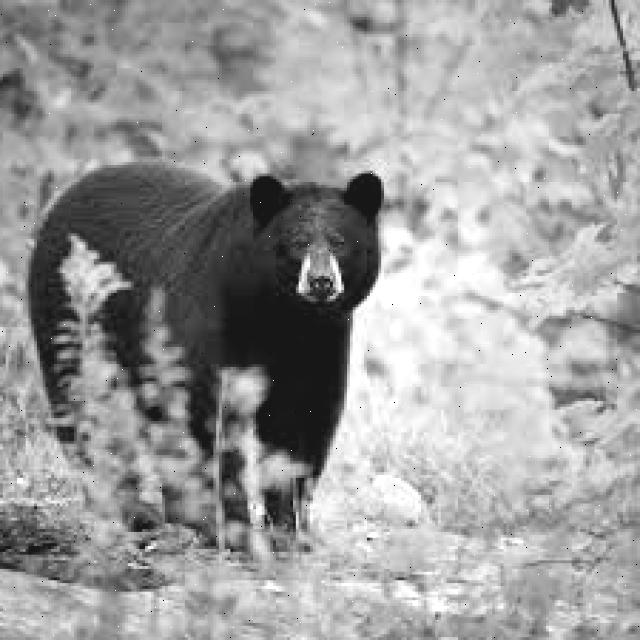bear: (60, 158, 406, 506)
